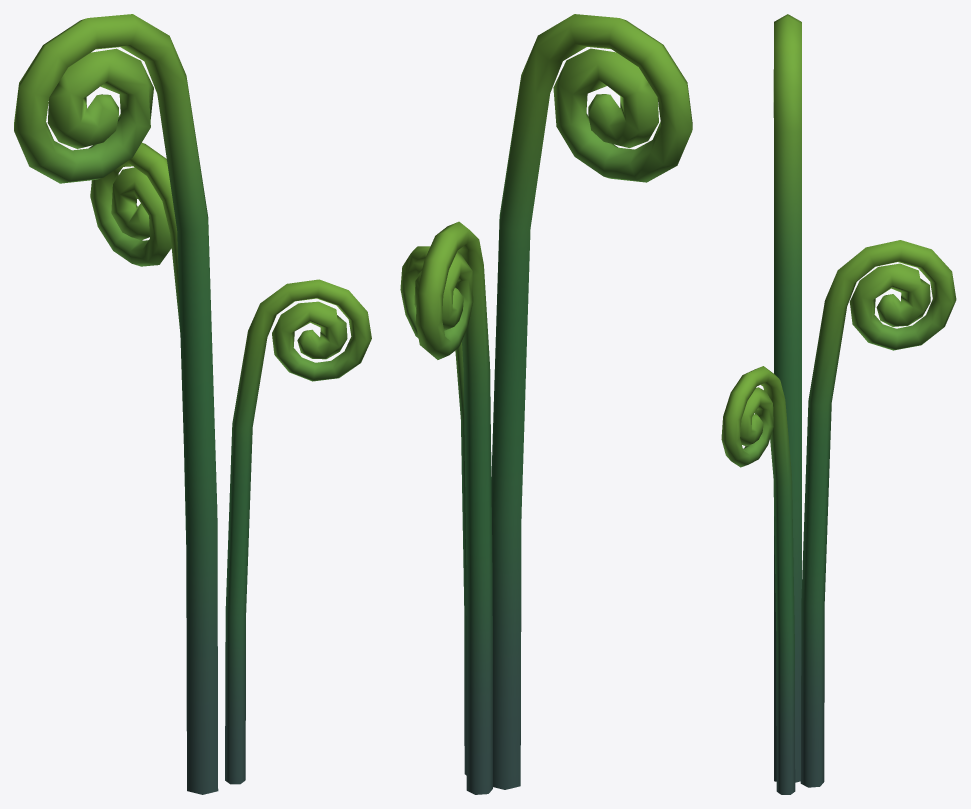
The model's file is plant_35.fbx.
3 views of the same model, side by side, from view 1: azimuth 30°, elevation 25°; view 2: azimuth 150°, elevation 25°; view 3: azimuth 270°, elevation 25° (orthographic). The views are drawn at different scales.
Visible parts, largest first — view 1: plant_35; view 2: plant_35; view 3: plant_35.
Boxes of the visible parts, x1,y1,x2,y2 form: plant_35: [14, 14, 371, 794]; plant_35: [400, 14, 692, 794]; plant_35: [721, 14, 956, 794].
Size of the model in its own units: 1.05 by 2.46 by 0.7378.
